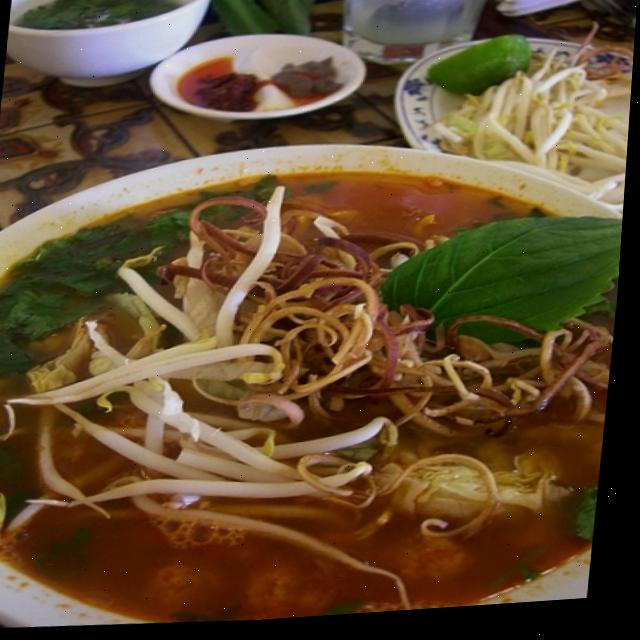面条主食: (0, 106, 633, 640)
